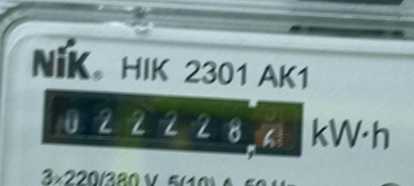0: (63, 106, 80, 135)
2: (96, 105, 116, 136), (195, 111, 214, 141), (130, 107, 148, 137), (162, 109, 181, 137)
5: (263, 103, 279, 123)
6: (261, 126, 278, 147)
8: (227, 115, 244, 144)
screen: (34, 77, 315, 167)
